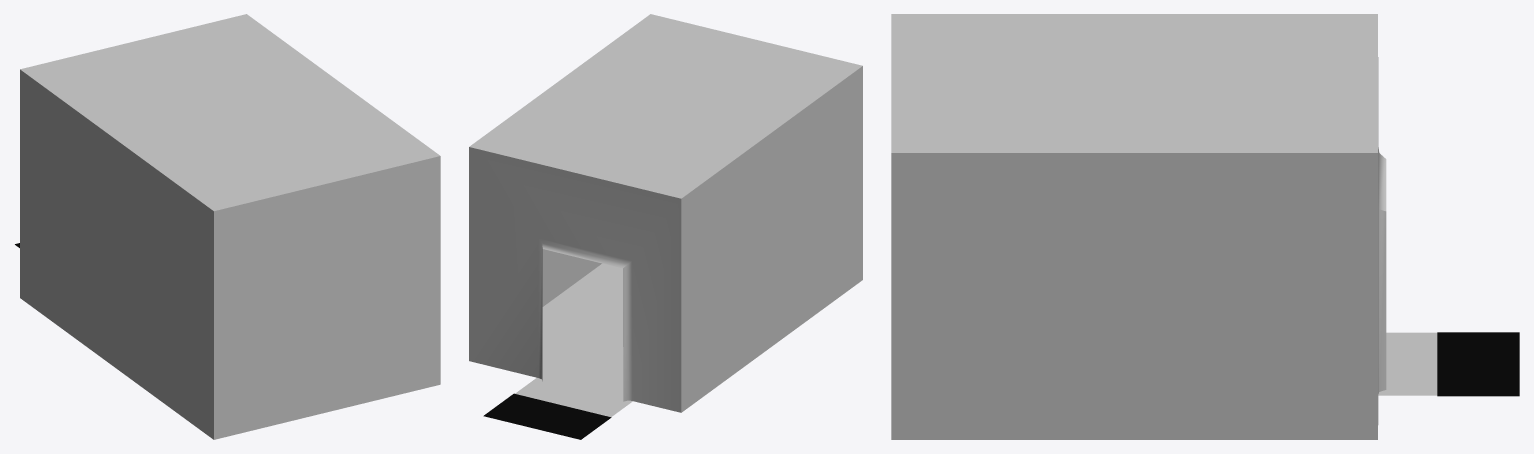
Rendered from Bedroom_Wall_01.fbx.
3 views of the same model, side by side, from view 1: azimuth 30°, elevation 25°; view 2: azimuth 150°, elevation 25°; view 3: azimuth 270°, elevation 25° (orthographic). The views are drawn at different scales.
Visible parts, largest first — view 1: Bedroom_Wall_01; view 2: Bedroom_Wall_01; view 3: Bedroom_Wall_01.
Part boxes in pixels (x1=…): Bedroom_Wall_01: x1=15, y1=14, x2=440, y2=439; Bedroom_Wall_01: x1=469, y1=14, x2=862, y2=439; Bedroom_Wall_01: x1=891, y1=14, x2=1519, y2=439.
Bounding box in the file's own units: 441 × 425 × 843.
